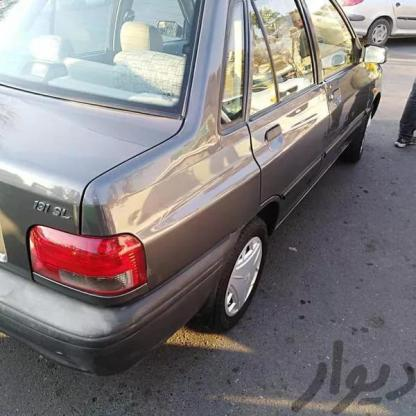Car: (0, 0, 416, 369), (241, 0, 415, 69)
